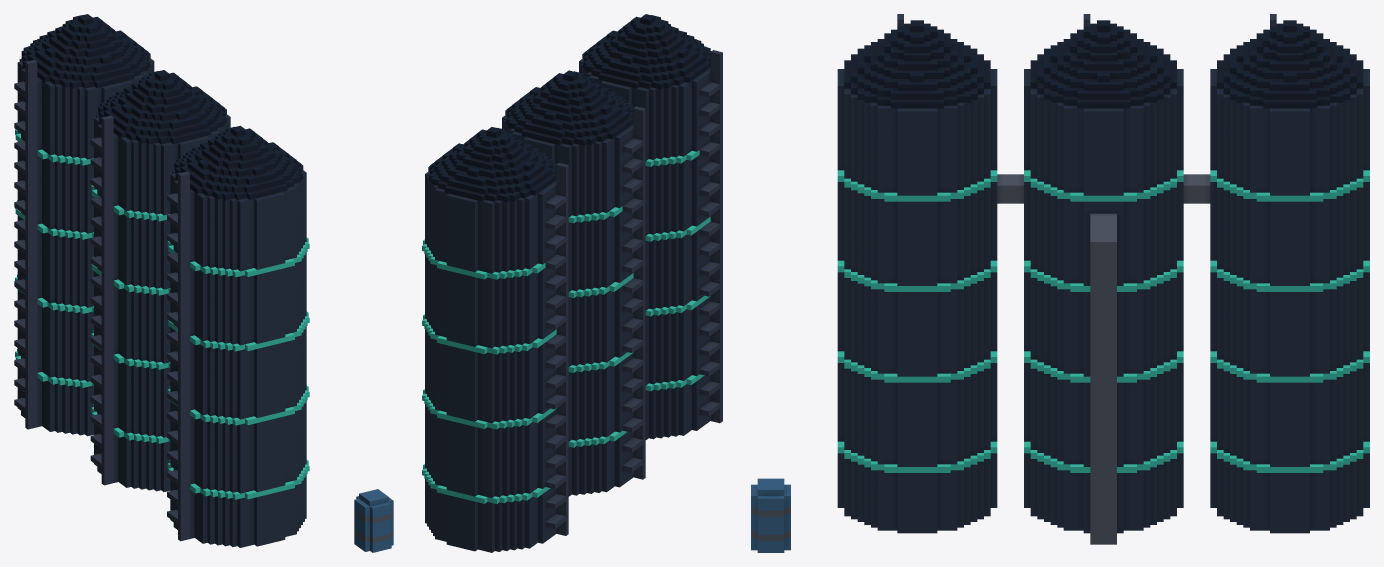
File: factory_e4_l2.glb
3 renders of one model, left to right at view 1: azimuth 30°, elevation 25°; view 2: azimuth 150°, elevation 25°; view 3: azimuth 270°, elevation 25°, orthographic. The views are drawn at different scales.
Visible parts, largest first — view 1: Base; view 2: Base; view 3: Base.
Part boxes in pixels (box(x1,y1,x2,y2)): Base: box(14, 14, 393, 552); Base: box(422, 14, 722, 552); Base: box(751, 14, 1369, 552).
Bounding box in the file's own units: 3.6 × 7.9 × 9.3.
